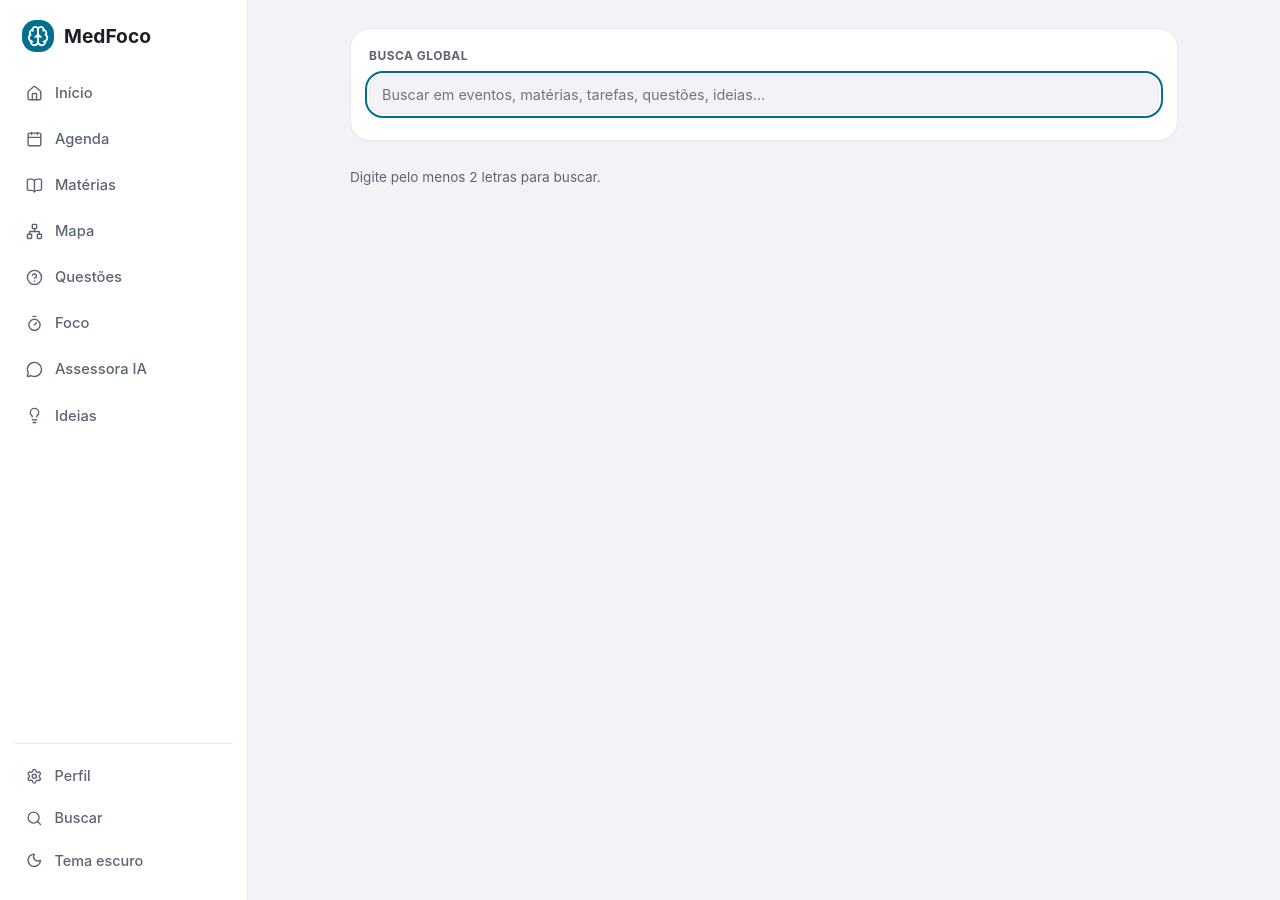
Test: Busca › avisa quando não há resultado
In the search field named "Texto da busca": [764, 94] box [369,75,1159,114], type "zzzz"
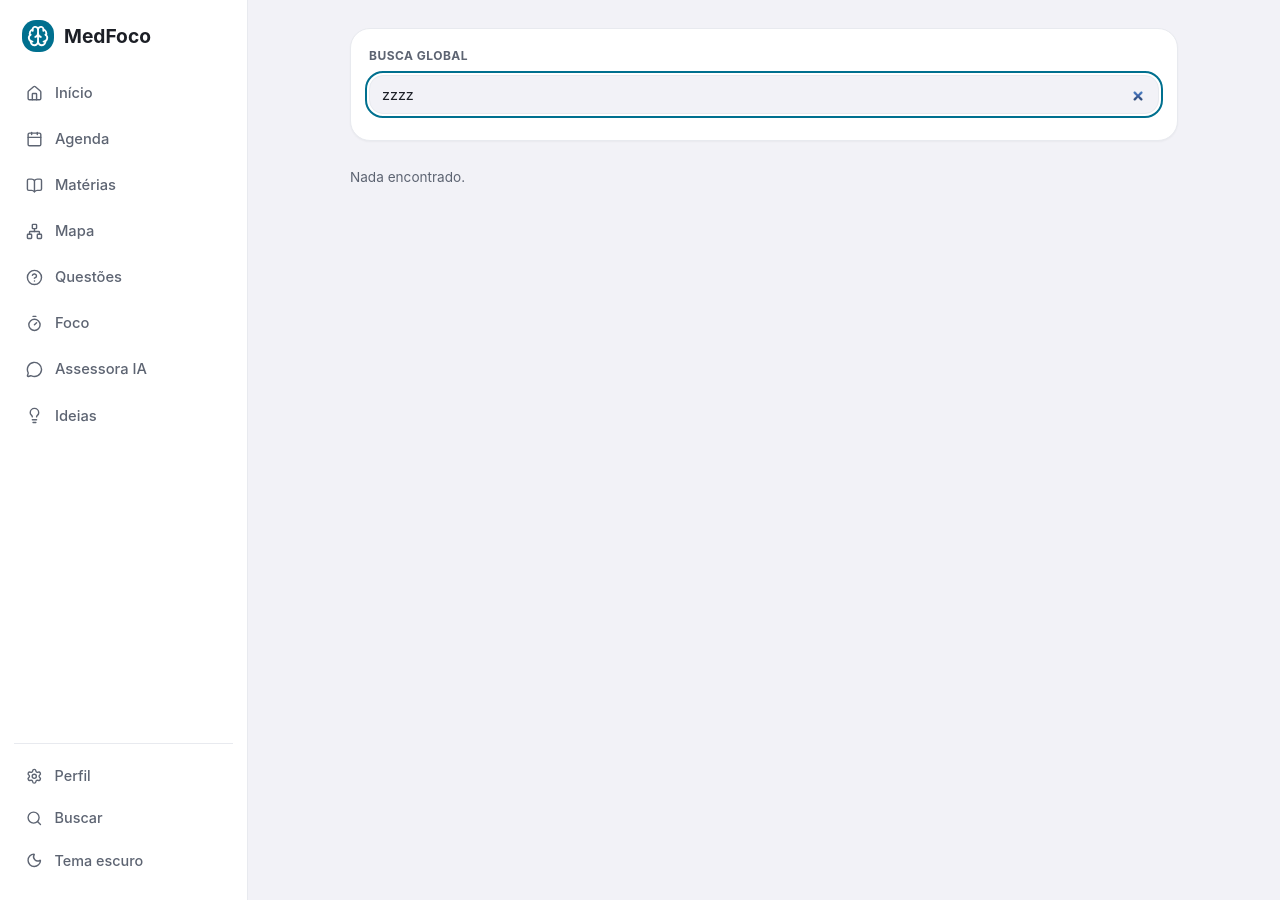
Check: the message reads "Nada encontrado.", box [350,169,465,185]
